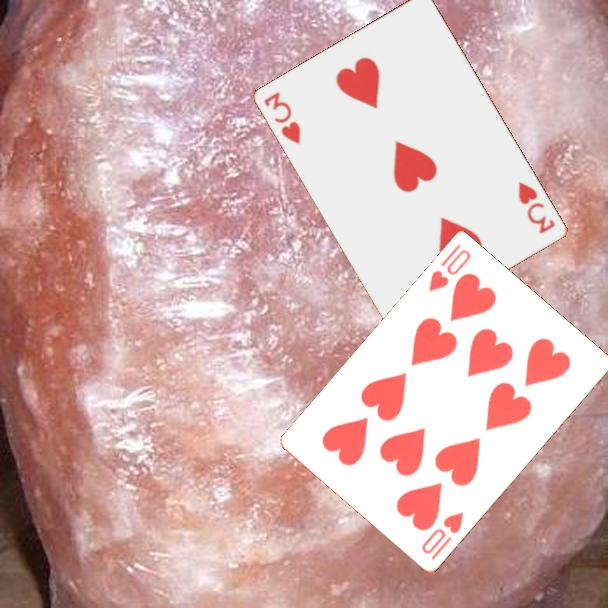h03: (260, 88, 304, 148), (515, 178, 558, 237)
h10: (418, 509, 467, 563), (425, 241, 474, 295)
